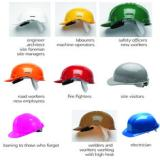Helmet: (100, 3, 152, 31), (71, 109, 117, 132), (106, 62, 150, 86), (7, 112, 46, 139), (120, 112, 160, 137), (53, 64, 95, 84), (3, 62, 45, 82), (59, 7, 95, 27), (12, 7, 49, 26)
